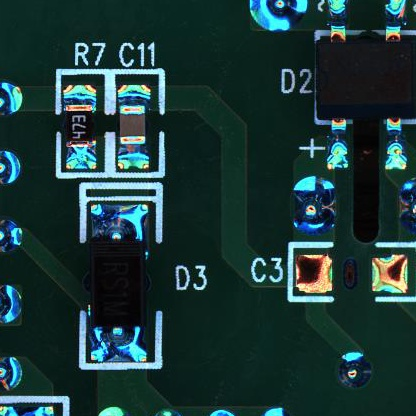spot: (290, 173, 338, 232), (334, 348, 375, 391)
